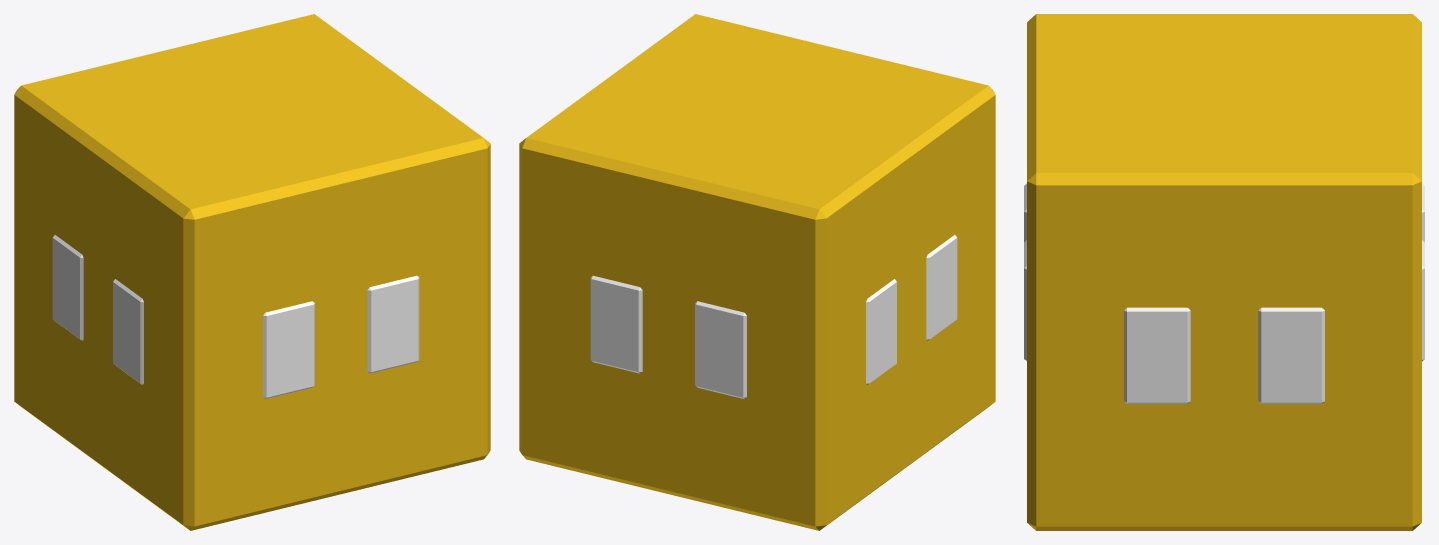
File: block_yellow.glb
The picture shows the model from 3 angles, left to right: view 1: azimuth 30°, elevation 25°; view 2: azimuth 150°, elevation 25°; view 3: azimuth 270°, elevation 25°; orthographic projection. The views are drawn at different scales.
Visible parts, largest first — view 1: block_yellow; view 2: block_yellow; view 3: block_yellow.
Boxes of the visible parts, bbox=[...] form: block_yellow: bbox=[14, 14, 490, 530]; block_yellow: bbox=[519, 14, 995, 530]; block_yellow: bbox=[1024, 14, 1424, 530].
Bounding box in the file's own units: 0.264 × 0.26 × 0.264.
